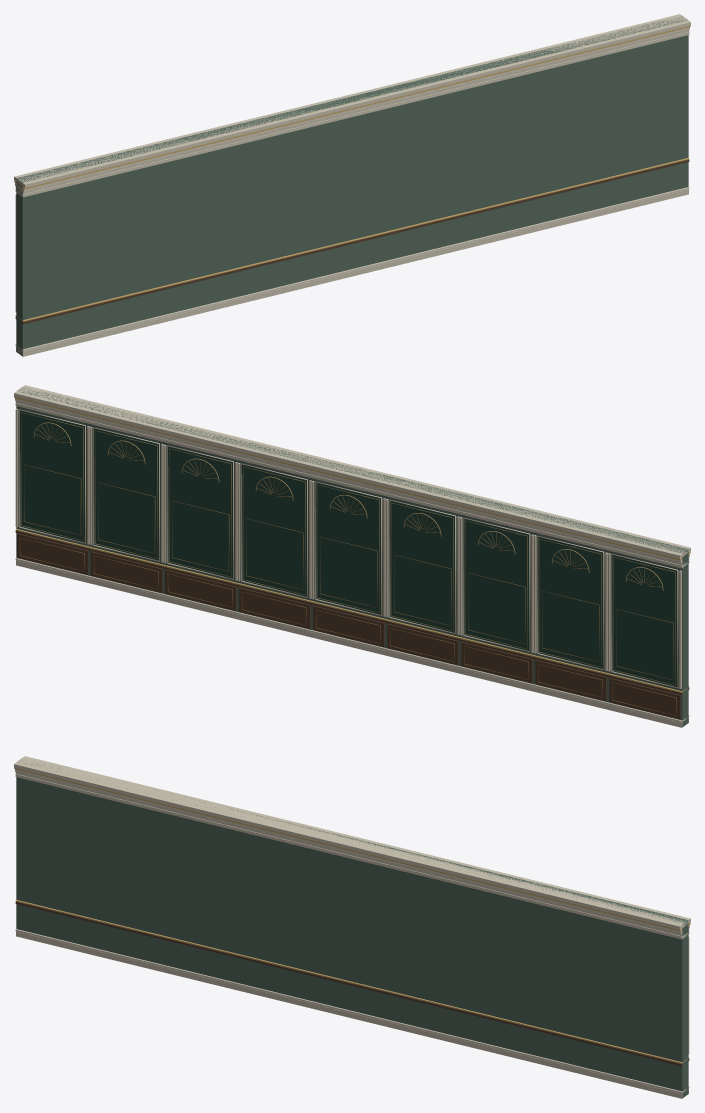
Rendered from hotel-entry-wall-east.glb.
3 views of the same model, one above another, from view 1: azimuth 30°, elevation 25°; view 2: azimuth 150°, elevation 25°; view 3: azimuth 330°, elevation 25° (orthographic).
Parts seen in each view (by area): view 1: Entry wall-east / Entry jade plaster, Entry wall-east / Entry carved limestone, Entry wall-east / Entry ivory marble, Entry wall-east / Entry burnished gold, Entry wall-east / Entry smoked walnut; view 2: Entry wall-east / Entry bottle green enamel, Entry wall-east / Entry carved limestone, Entry wall-east / Entry smoked walnut, Entry wall-east / Entry jade plaster, Entry wall-east / Entry aged bronze, Entry wall-east / Entry burnished gold, Entry wall-east / Entry ivory marble; view 3: Entry wall-east / Entry jade plaster, Entry wall-east / Entry carved limestone, Entry wall-east / Entry ivory marble, Entry wall-east / Entry burnished gold, Entry wall-east / Entry smoked walnut.
Boxes of the visible parts, left/top/right/bottom form: Entry wall-east / Entry jade plaster: left=16, top=16, right=688, bottom=356; Entry wall-east / Entry carved limestone: left=14, top=14, right=690, bottom=356; Entry wall-east / Entry ivory marble: left=15, top=27, right=689, bottom=351; Entry wall-east / Entry burnished gold: left=14, top=25, right=690, bottom=321; Entry wall-east / Entry smoked walnut: left=15, top=159, right=689, bottom=324; Entry wall-east / Entry bottle green enamel: left=20, top=410, right=677, bottom=686; Entry wall-east / Entry carved limestone: left=14, top=385, right=690, bottom=727; Entry wall-east / Entry smoked walnut: left=15, top=530, right=689, bottom=719; Entry wall-east / Entry jade plaster: left=16, top=388, right=688, bottom=727; Entry wall-east / Entry aged bronze: left=16, top=411, right=679, bottom=715; Entry wall-east / Entry burnished gold: left=14, top=396, right=690, bottom=692; Entry wall-east / Entry ivory marble: left=15, top=398, right=689, bottom=722; Entry wall-east / Entry jade plaster: left=16, top=758, right=688, bottom=1098; Entry wall-east / Entry carved limestone: left=14, top=756, right=690, bottom=1098; Entry wall-east / Entry ivory marble: left=15, top=769, right=689, bottom=1093; Entry wall-east / Entry burnished gold: left=14, top=767, right=690, bottom=1063; Entry wall-east / Entry smoked walnut: left=15, top=901, right=689, bottom=1066.
Size of the model in its own units: 27.28 by 6.8 by 0.78.
7 materials, 1 textured.
